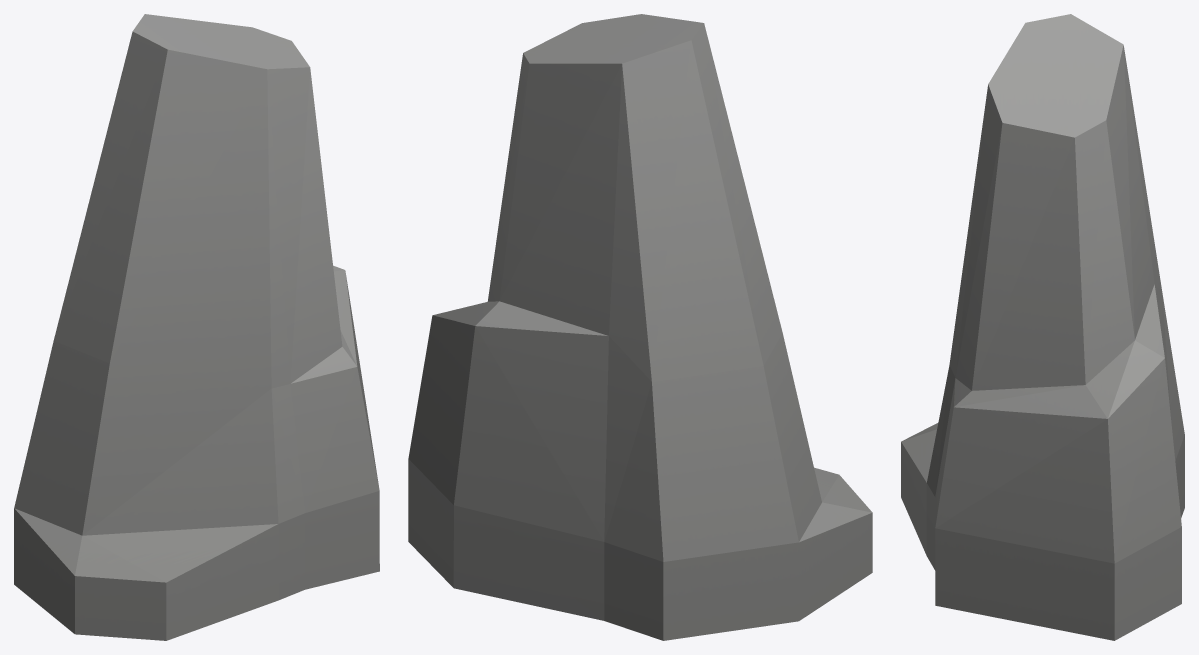
The model's file is Cavern_RockPointy-02.fbx.
The picture shows the model from 3 angles, left to right: view 1: azimuth 30°, elevation 25°; view 2: azimuth 150°, elevation 25°; view 3: azimuth 270°, elevation 25°; orthographic projection. The views are drawn at different scales.
Visible parts, largest first — view 1: Cavern_RockPointy-02; view 2: Cavern_RockPointy-02; view 3: Cavern_RockPointy-02.
Boxes of the visible parts, x1,y1,x2,y2 form: Cavern_RockPointy-02: (14, 14, 379, 640); Cavern_RockPointy-02: (408, 14, 872, 640); Cavern_RockPointy-02: (901, 14, 1184, 640).
Size of the model in its own units: 431 by 594 by 300.
Materials: 1 (1 with a texture image).
